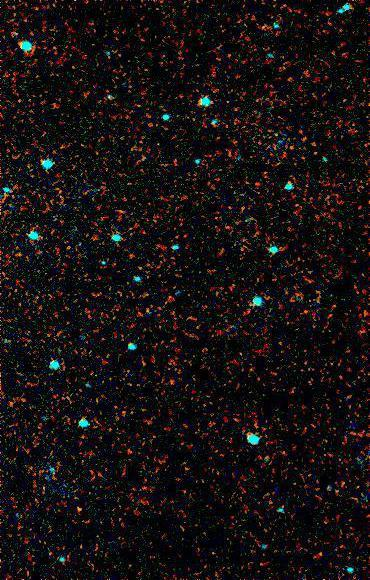star: (61, 496, 91, 526)
